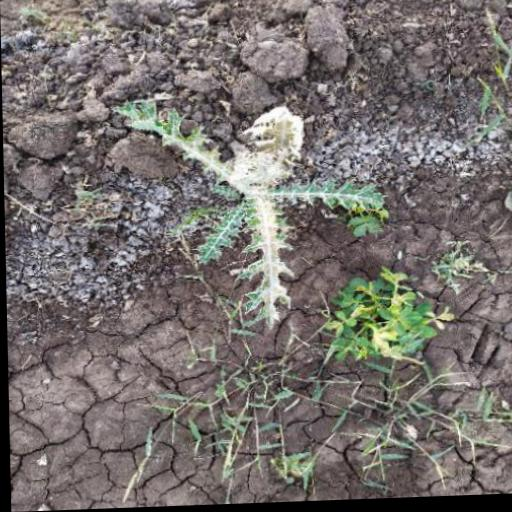weed: (73, 261, 468, 510), (116, 61, 383, 324)
